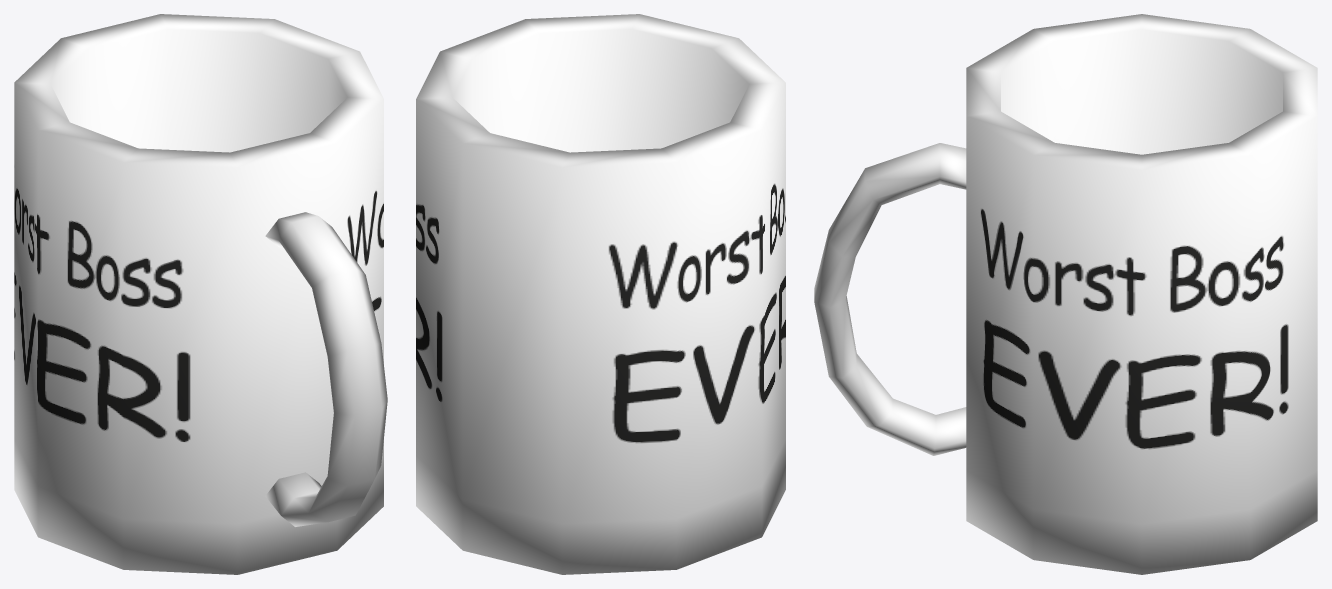
File: Mug.fbx
3 renders of one model, left to right at view 1: azimuth 30°, elevation 25°; view 2: azimuth 150°, elevation 25°; view 3: azimuth 270°, elevation 25°, orthographic.
Parts seen in each view (by area): view 1: mug, mug_handle; view 2: mug; view 3: mug, mug_handle.
Boxes of the visible parts, x1,y1,x2,y2 form: mug: [14, 14, 383, 574]; mug_handle: [265, 212, 387, 526]; mug: [416, 14, 785, 574]; mug: [966, 14, 1317, 574]; mug_handle: [814, 143, 966, 455].
Bounding box in the file's own units: 1.4 × 1.69 × 1.91.
